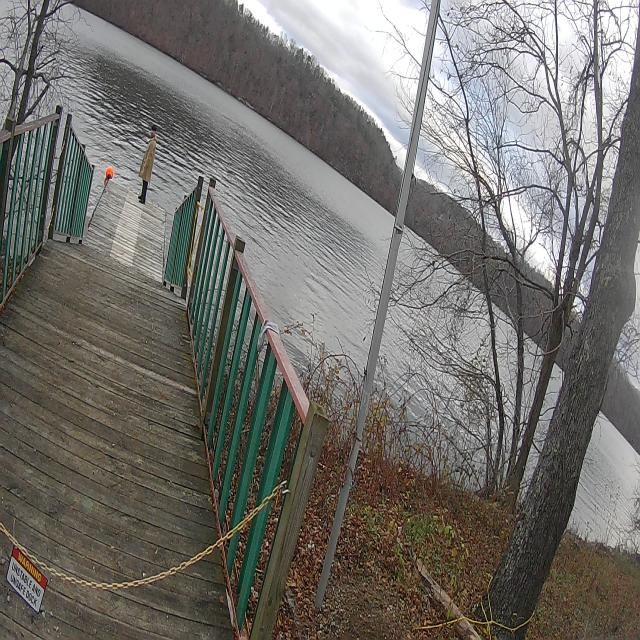Buoy: (103, 162, 114, 182)
